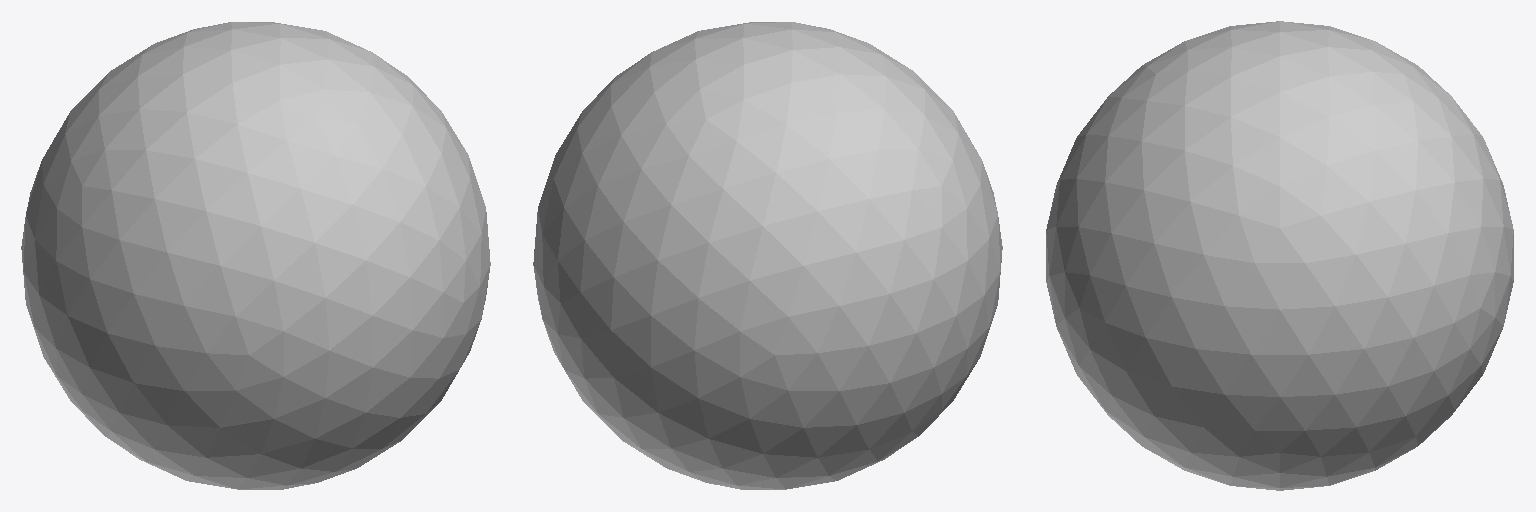
The model's file is geodesic.obj.
3 views of the same model, side by side, from view 1: azimuth 30°, elevation 25°; view 2: azimuth 150°, elevation 25°; view 3: azimuth 270°, elevation 25° (orthographic).
Size of the model in its own units: 1.99 by 1.99 by 1.99.